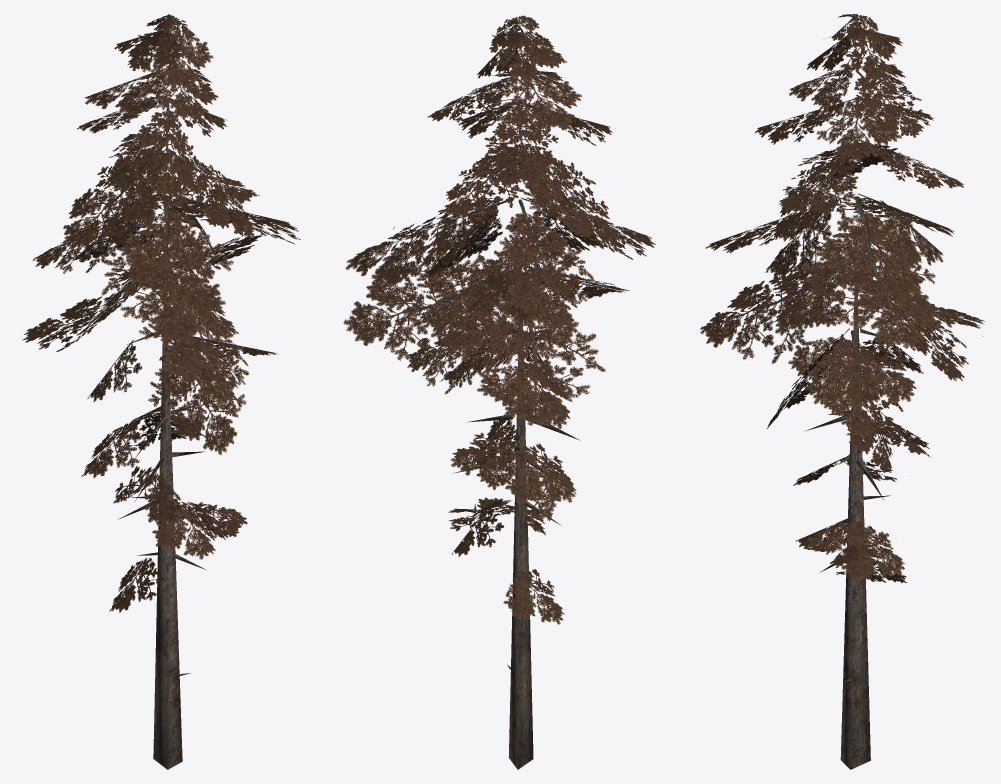
Rendered from trees_sosna_1_red_01_low_LOD2.fbx.
3 renders of one model, left to right at view 1: azimuth 30°, elevation 25°; view 2: azimuth 150°, elevation 25°; view 3: azimuth 270°, elevation 25°, orthographic.
Parts seen in each view (by area): view 1: trees_sosna_1_red_01_low_LOD2; view 2: trees_sosna_1_red_01_low_LOD2; view 3: trees_sosna_1_red_01_low_LOD2.
Boxes of the visible parts, x1,y1,x2,y2 form: trees_sosna_1_red_01_low_LOD2: (22,14,300,769); trees_sosna_1_red_01_low_LOD2: (343,15,655,769); trees_sosna_1_red_01_low_LOD2: (700,14,984,769).
Size of the model in its own units: 1056 by 2819 by 1009.
